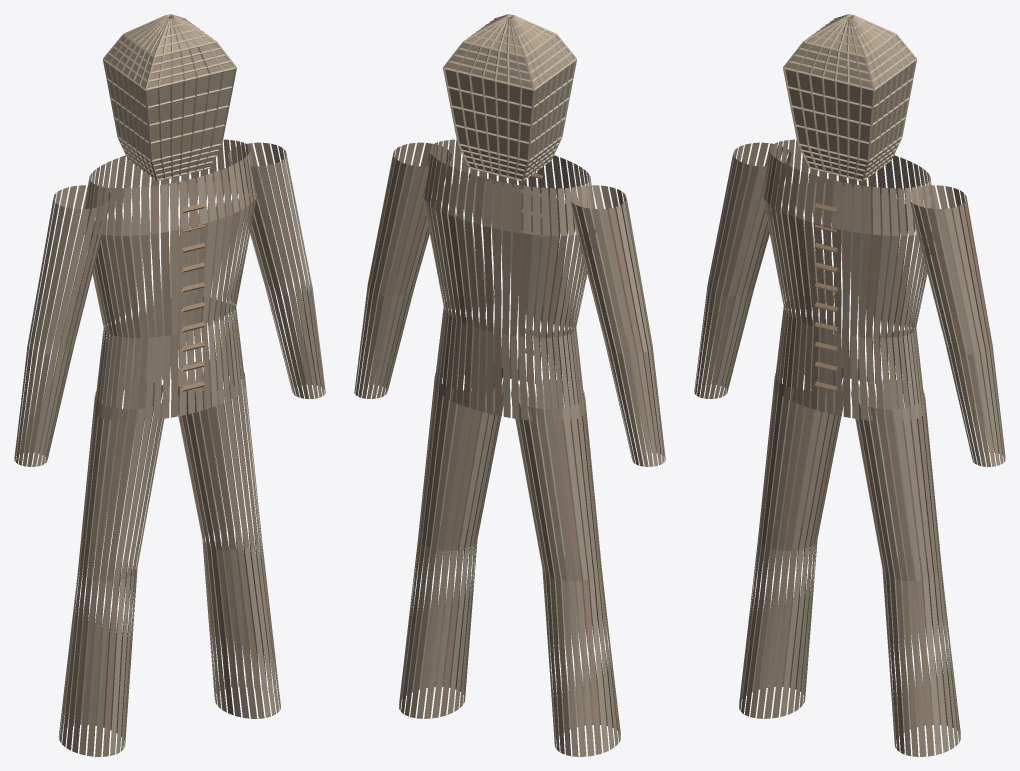
The model's file is man-2014.glb.
3 views of the same model, side by side, from view 1: azimuth 30°, elevation 25°; view 2: azimuth 150°, elevation 25°; view 3: azimuth 330°, elevation 25° (orthographic).
Visible parts, largest first — view 1: man-2014; view 2: man-2014; view 3: man-2014.
Part boxes in pixels (box(x1,y1,x2,y2)): man-2014: box(14, 14, 325, 756); man-2014: box(354, 14, 665, 756); man-2014: box(694, 14, 1005, 756).
Size of the model in its own units: 14.56 by 32 by 4.
